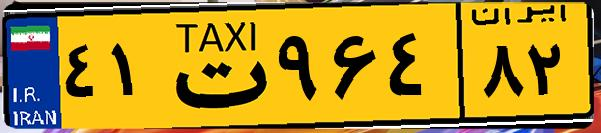1: (110, 28, 158, 98)
2: (525, 38, 570, 115)
4: (385, 28, 445, 110), (57, 26, 110, 100)
6: (330, 28, 385, 110)
8: (475, 38, 525, 113)
9: (270, 28, 330, 110)
ت: (158, 12, 270, 120)
